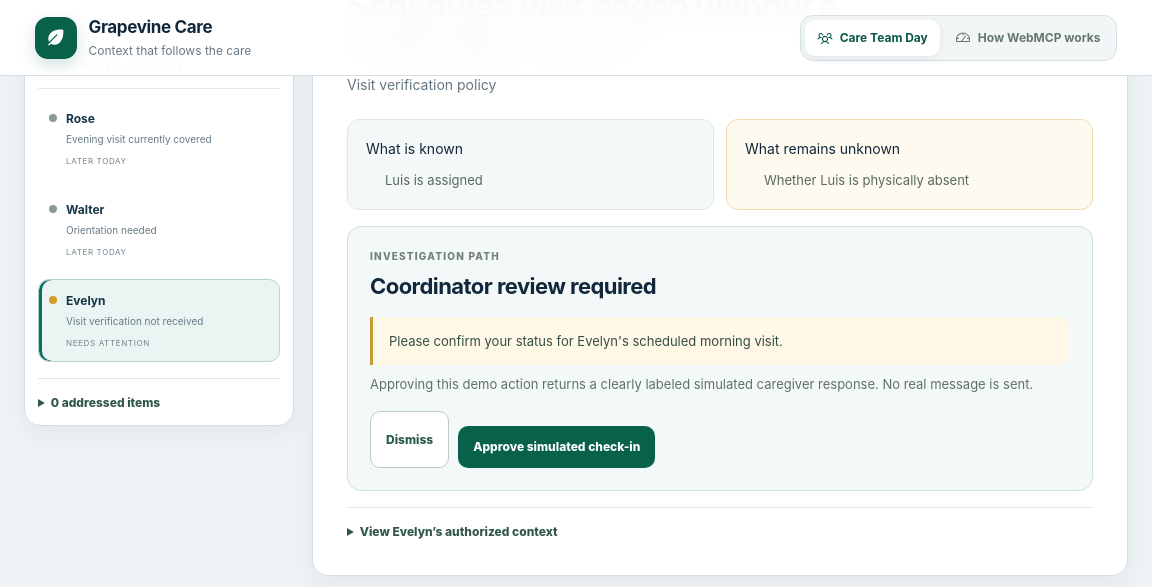
Test: Grapevine Care › blocks simulated time until the current decision is accounted for
(page scrolled)
Click the button "Approve simulated check-in" at (557, 447), box [458, 426, 655, 468]
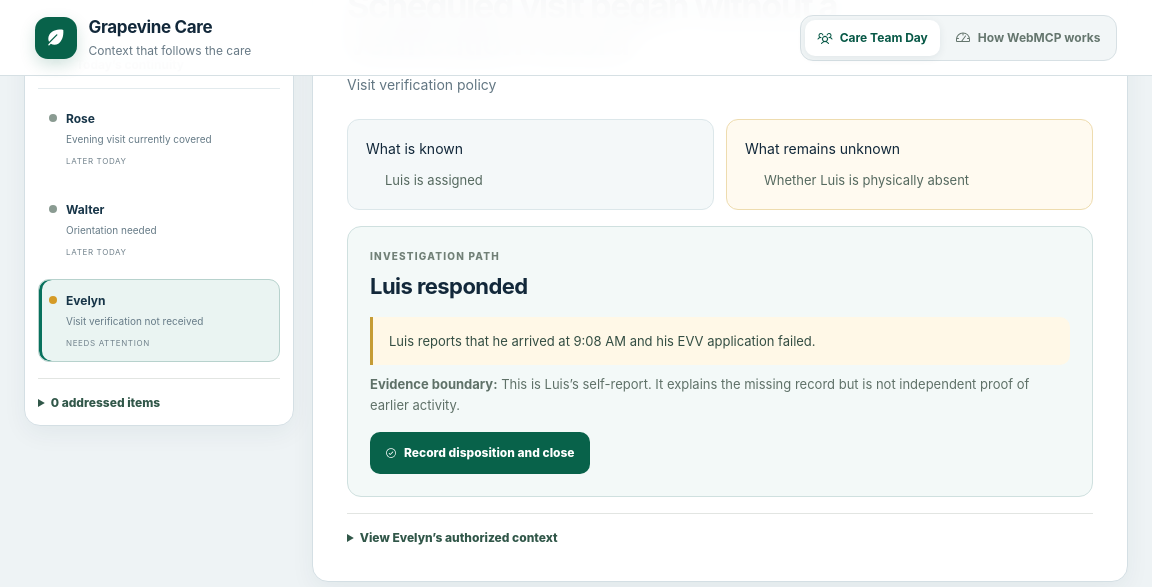
Now the text "Luis reports that he arrived" is shown, box [389, 333, 816, 349]
Click the button "Record disposition and close" at (480, 453), box [370, 432, 590, 474]
(page scrolled)
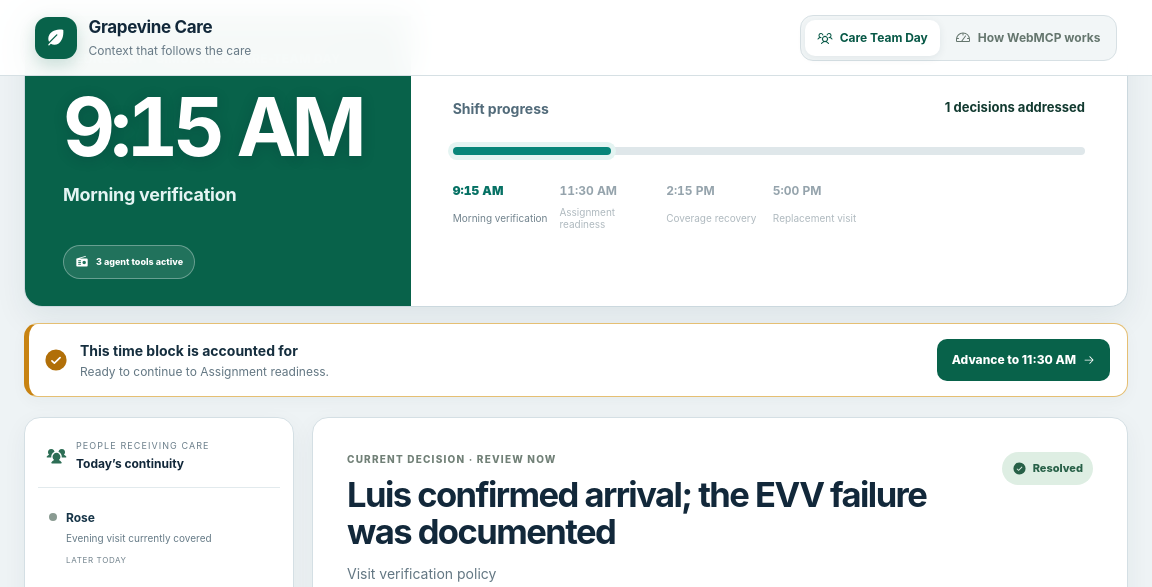
Now the button "Advance to 11:30 AM" is enabled, box [937, 339, 1110, 381]
